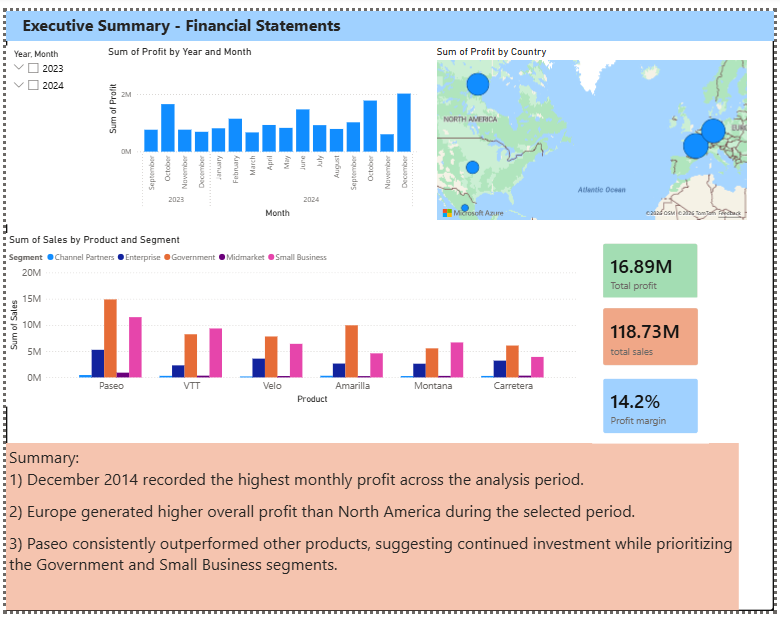

The page's visual inventory and layout, read from the dashboard file:
{"tool":"powerbi","page":{"name":"Page 1","canvas":[1280,1000],"ordinal":0},"visuals":[{"type":"textbox","box":[0,0,1280,50],"z":0},{"type":"columnChart","fields":{"Category":["Calendar.Date.Variation.Date Hierarchy.Year","Calendar.Date.Variation.Date Hierarchy.Month"],"Y":["Sum(financials.Profit)"]},"box":[163.8,57.4,525.5,291.5],"z":1000},{"type":"azureMap","fields":{"Category":["financials.Country"],"Size":["Sum(financials.Profit)"]},"box":[712.5,57.5,527.5,295],"z":2000},{"type":"clusteredColumnChart","fields":{"Y":["Sum(financials. Sales)"],"Category":["financials.Product"],"Series":["financials.Segment"]},"box":[0,370.2,957.4,289.4],"z":3000},{"type":"slicer","fields":{"Values":["Calendar.Date.Variation.Date Hierarchy.Year","Calendar.Date.Variation.Date Hierarchy.Month"]},"box":[0,57.4,163.8,297.9],"z":4000},{"type":"textbox","box":[0,721.2,1221.2,278.8],"z":5000},{"type":"cardVisual","fields":{"Data":["Calendar.Total profit"]},"box":[977.5,370,192.5,127.5],"z":5001},{"type":"cardVisual","fields":{"Data":["Calendar.total sales"]},"box":[976.9,476.9,193.8,130.8],"z":5002},{"type":"cardVisual","fields":{"Data":["Calendar.Profit margin"]},"box":[976.9,593.8,193.8,126.2],"z":5003}]}

Visuals, with their boxes in screenshot pixels (x1, y1, x2, y2), scaled from the page's 1280x1000 canvas onto the 780x621 screenshot:
textbox: box(0, 0, 779, 31)
columnChart - Calendar.Date.Variation.Date Hierarchy.Year x Calendar.Date.Variation.Date Hierarchy.Month: box(100, 36, 420, 217)
azureMap - financials.Country x Sum(financials.Profit): box(434, 36, 756, 219)
clusteredColumnChart - Sum(financials. Sales) x financials.Product: box(0, 230, 583, 410)
slicer - Calendar.Date.Variation.Date Hierarchy.Year x Calendar.Date.Variation.Date Hierarchy.Month: box(0, 36, 100, 221)
textbox: box(0, 448, 744, 620)
cardVisual - Calendar.Total profit: box(596, 230, 713, 309)
cardVisual - Calendar.total sales: box(595, 296, 713, 377)
cardVisual - Calendar.Profit margin: box(595, 369, 713, 447)
